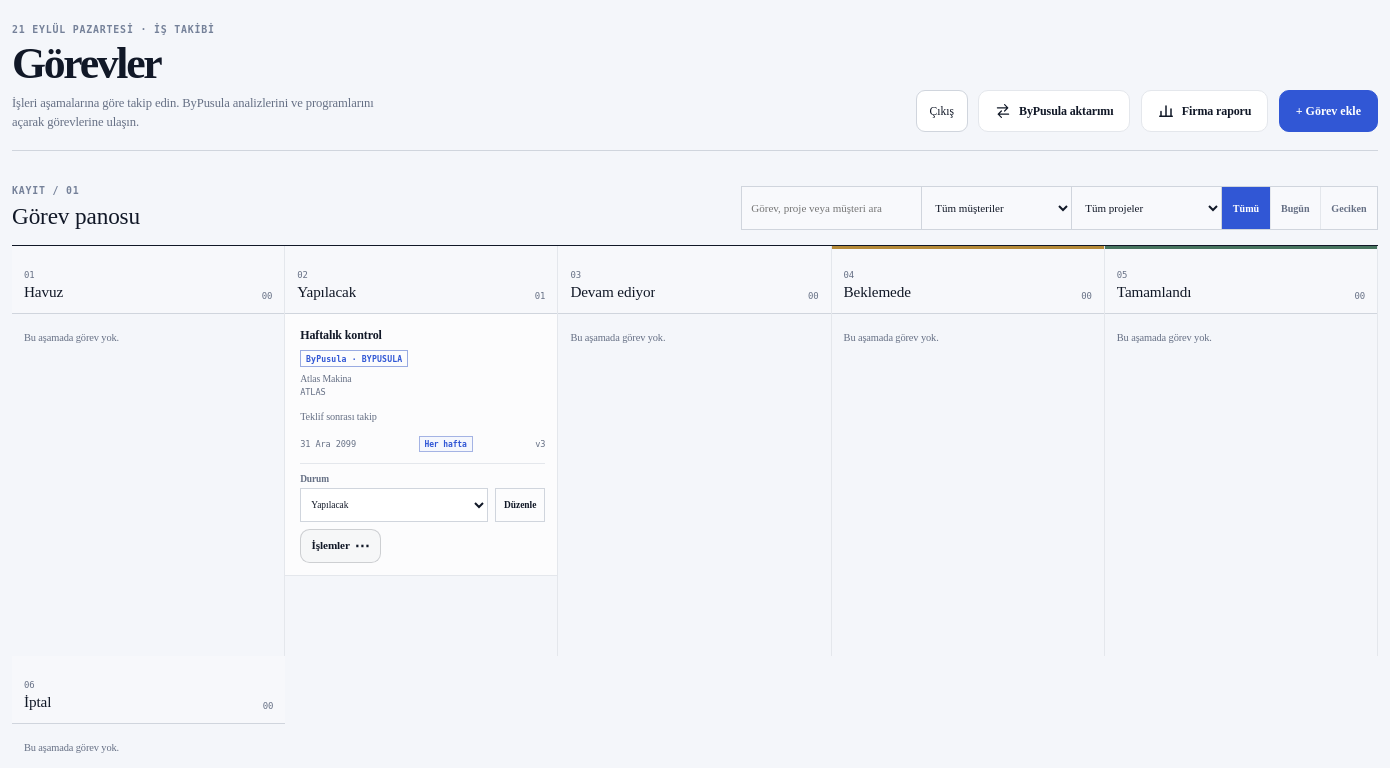
TasksWorkspace › reloads the board after completing a recurring task so its next occurrence appears
Select "Tamamlandı" in the dropdown named "Haftalık kontrol durumu" at (394, 505), box [300,488,488,522]
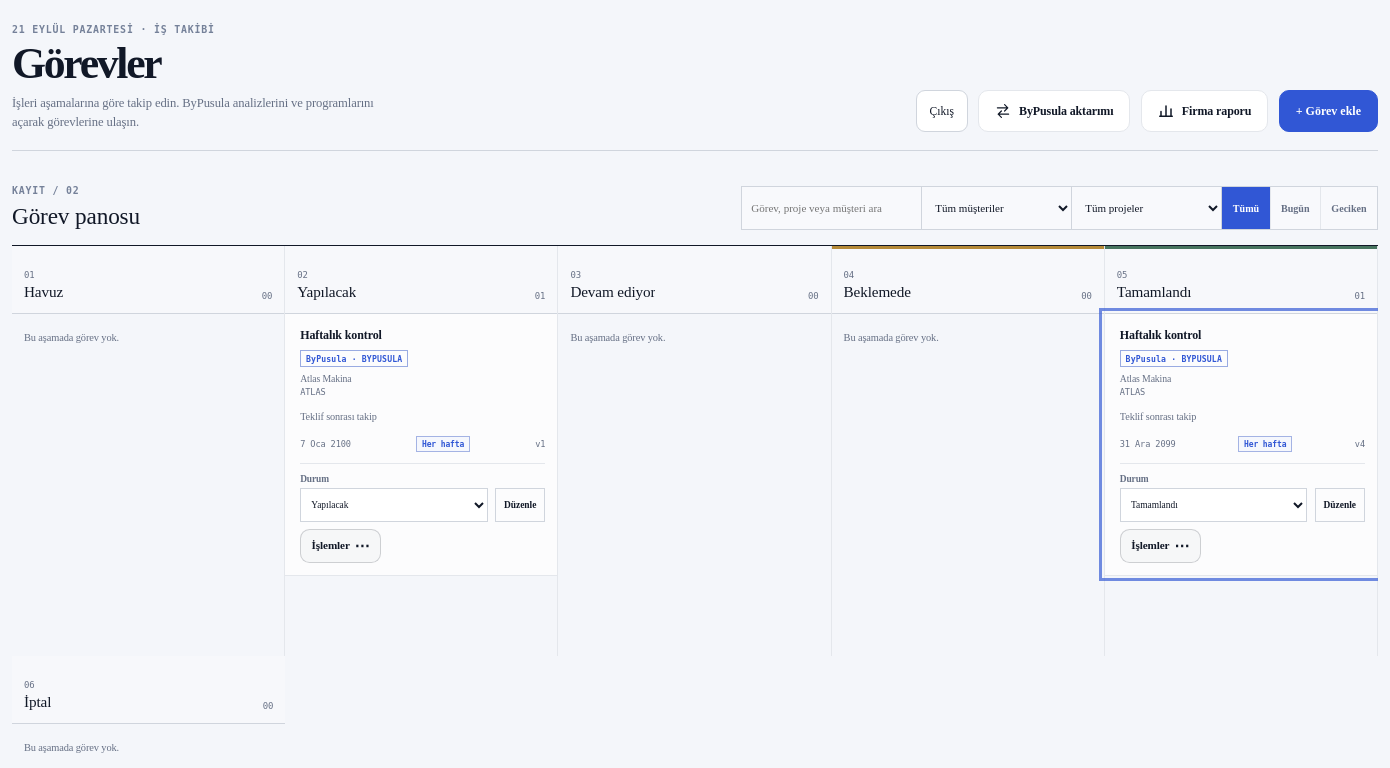
Check: the number of elements "Haftalık kontrol" is 2, box [285,314,557,575]; [1105,314,1377,575]
